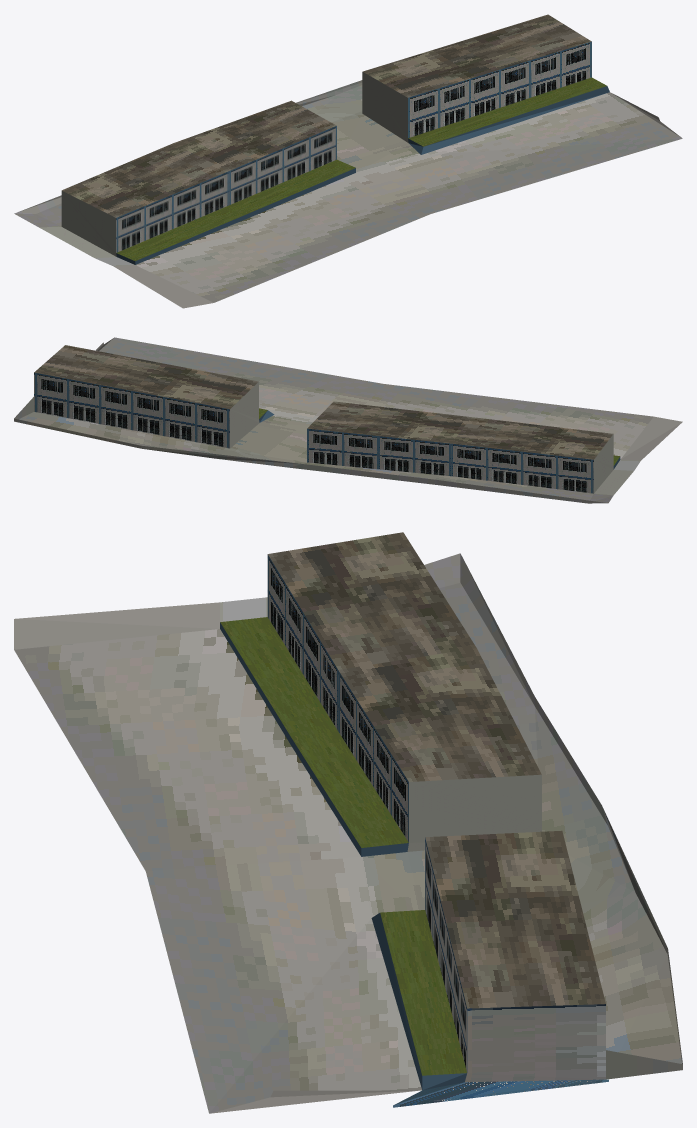
File: lodvenblue01_law.obj
The picture shows the model from 3 angles, top to bottom: view 1: azimuth 30°, elevation 25°; view 2: azimuth 150°, elevation 25°; view 3: azimuth 270°, elevation 25°; orthographic projection. The views are drawn at different scales.
Visible parts, largest first — view 1: LODvenblue01_law; view 2: LODvenblue01_law; view 3: LODvenblue01_law.
Part boxes in pixels (box(x1,y1,x2,y2)): LODvenblue01_law: box(14, 14, 682, 308); LODvenblue01_law: box(14, 337, 682, 503); LODvenblue01_law: box(14, 532, 682, 1113).
Bounding box in the file's own units: 103 × 8.13 × 55.28.
4 materials, 4 textured.
